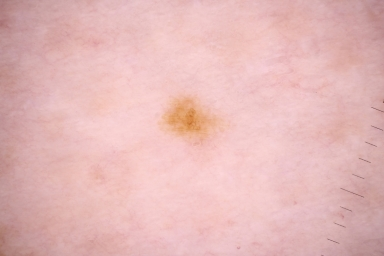nevus: (161, 99, 216, 146)
